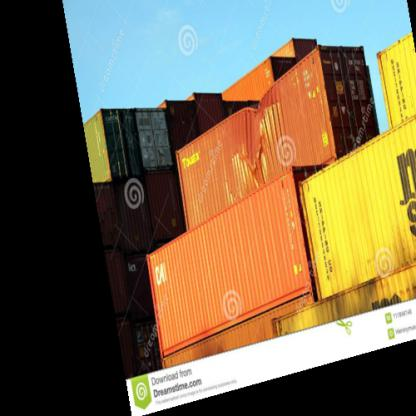Damage: (230, 89, 282, 172)
